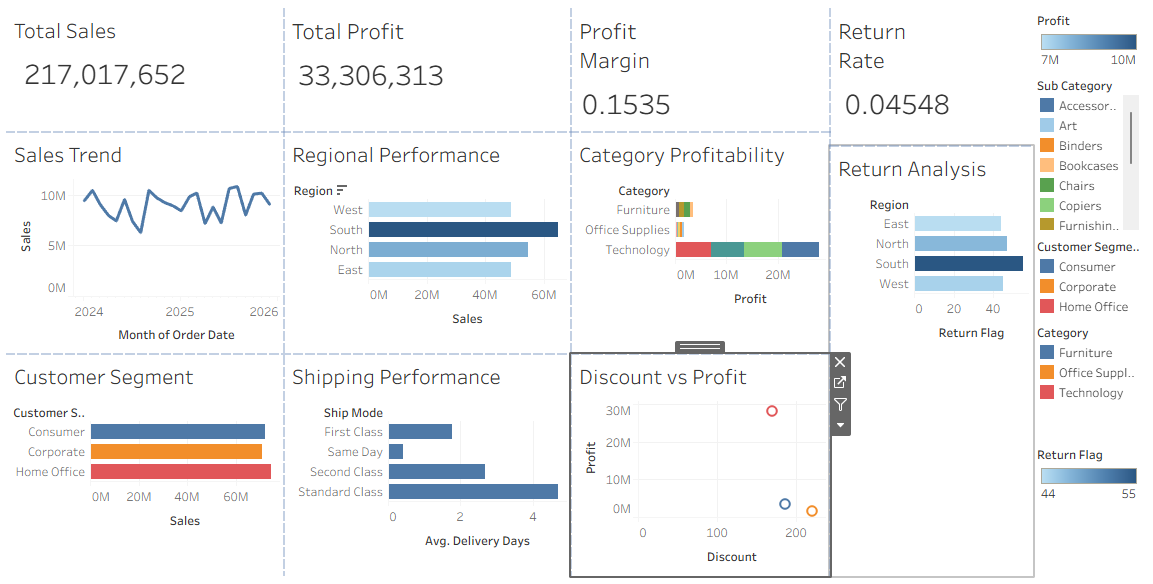

What the dashboard file says about the page in this screenshot:
{"tool":"tableau","page":{"name":"full_dashboard","canvas":[1000,1000],"units":"permille","ordinal":2},"visuals":[{"type":"worksheet","title":"KPI Total Sales","mark":"Automatic","box":[6.9,13.7,240.5,211.9]},{"type":"worksheet","title":"KPI Total Profit","mark":"Automatic","box":[247.5,13.7,248.3,211.9]},{"type":"worksheet","title":"KPI Profit Margin","mark":"Automatic","box":[495.8,13.7,224.2,212.3]},{"type":"worksheet","title":"KPI Return Rate","mark":"Automatic","box":[720,13.7,176.1,236.3]},{"type":"legend","title":"Regional Performance","param":"[federated.0b2ihla068u1nk1f90b5d1gp737e].[sum:profit:qk]","box":[896.1,13.7,97,138.7]},{"type":"legend","title":"Category Profitability","param":"[federated.0b2ihla068u1nk1f90b5d1gp737e].[none:sub_category:nk]","box":[896.1,152.4,97,275.7]},{"type":"worksheet","title":"Sales Trend","mark":"Automatic","rows":["sales"],"cols":["order_date"],"box":[6.9,225.6,240.5,380.3]},{"type":"worksheet","title":"Regional Performance","mark":"Automatic","rows":["region"],"cols":["sales"],"box":[247.5,225.6,248.3,380.3]},{"type":"worksheet","title":"Category Profitability","mark":"Automatic","rows":["category"],"cols":["profit"],"box":[495.8,226,224.2,380.1]},{"type":"worksheet","title":"Return Analysis","mark":"Automatic","rows":["region"],"cols":["return_flag"],"box":[720,250,176.1,736.3]},{"type":"legend","title":"Customer Segment","param":"[federated.0b2ihla068u1nk1f90b5d1gp737e].[none:customer_segment:nk]","box":[896.1,428.1,97,164.4]},{"type":"legend","title":"Discount vs Profit","param":"[federated.0b2ihla068u1nk1f90b5d1gp737e].[none:category:nk]","box":[896.1,592.5,97,184.9]},{"type":"worksheet","title":"Customer Segment","mark":"Automatic","rows":["customer_segment"],"cols":["sales"],"box":[6.9,605.9,240.5,380.4]},{"type":"worksheet","title":"Shipping Performance","mark":"Automatic","rows":["ship_mode"],"cols":["delivery_days"],"box":[247.5,605.9,248.3,380.4]},{"type":"worksheet","title":"Discount vs Profit","mark":"Automatic","rows":["profit"],"cols":["discount"],"box":[495.8,606.1,224.2,380.2]},{"type":"legend","title":"Return Analysis","param":"[federated.0b2ihla068u1nk1f90b5d1gp737e].[sum:return_flag:qk]","box":[896.1,777.4,97,111.3]}]}

Visuals, with their boxes on the dashboard's canvas, which has no fixed pixel size, in thousandths of its width and height (x1, y1, x2, y2). These are canvas units, not pixel positions in the 1153x584 screenshot, which may show the page scaled, cropped or inside an application window:
"KPI Total Sales" worksheet: rect(7, 14, 247, 226)
"KPI Total Profit" worksheet: rect(248, 14, 496, 226)
"KPI Profit Margin" worksheet: rect(496, 14, 720, 226)
"KPI Return Rate" worksheet: rect(720, 14, 896, 250)
"Regional Performance" legend: rect(896, 14, 993, 152)
"Category Profitability" legend: rect(896, 152, 993, 428)
"Sales Trend" worksheet: rect(7, 226, 247, 606)
"Regional Performance" worksheet: rect(248, 226, 496, 606)
"Category Profitability" worksheet: rect(496, 226, 720, 606)
"Return Analysis" worksheet: rect(720, 250, 896, 986)
"Customer Segment" legend: rect(896, 428, 993, 592)
"Discount vs Profit" legend: rect(896, 592, 993, 777)
"Customer Segment" worksheet: rect(7, 606, 247, 986)
"Shipping Performance" worksheet: rect(248, 606, 496, 986)
"Discount vs Profit" worksheet: rect(496, 606, 720, 986)
"Return Analysis" legend: rect(896, 777, 993, 889)
